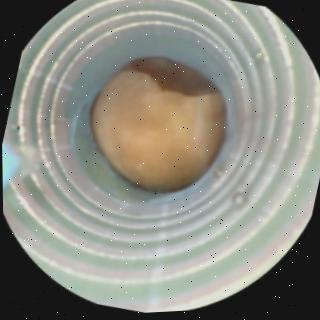fiber: (2, 143, 16, 184)
stone: (94, 72, 219, 193)
